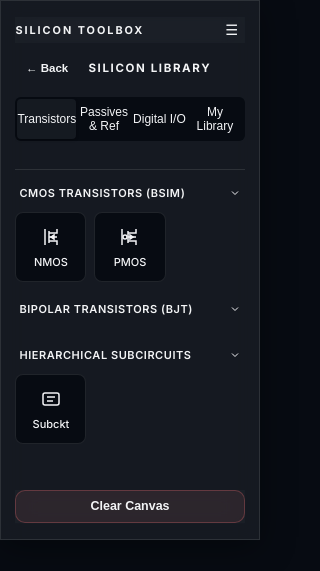
Test: Sidebar and ComponentTooltipCard › renders silicon transistors and digital I/O chips with attached tooltips in Sidebar
Expected: the button with aria-label "Add NMOS Transistor" is shown, [15,212,86,282]
Expected: the button with aria-label "Add PMOS Transistor" is shown, [94,212,166,282]
Note: Switch to 'Digital I/O' tab (transistor-first: no gate primitives)
Click the button "Digital I/O".
click(159, 119)  # box [132,99,187,139]
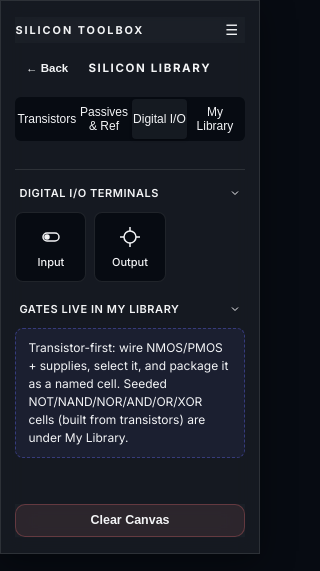
Result: the button with aria-label "Add Input" is shown at [15,212,86,282]
Result: the button with aria-label "Add Output" is shown at [94,212,166,282]
